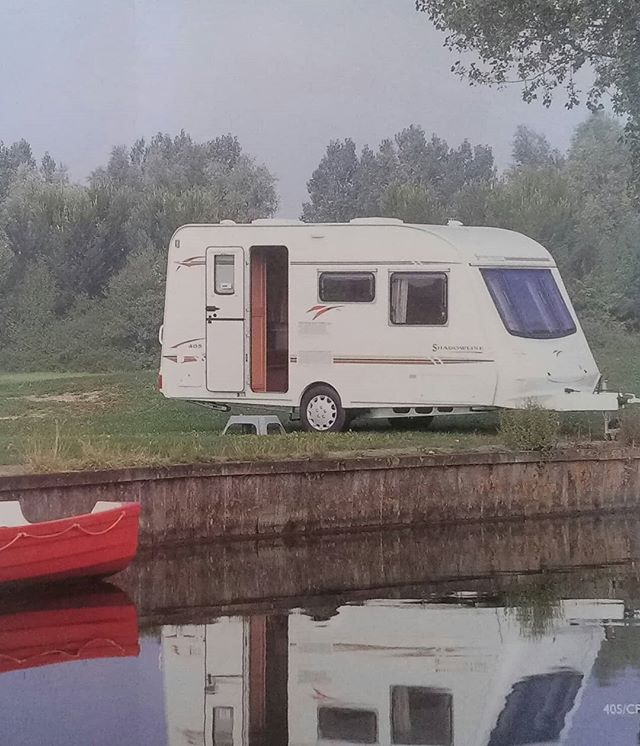river: (21, 521, 640, 746)
trailer home: (136, 196, 612, 433)
vegetation: (16, 114, 640, 356)
